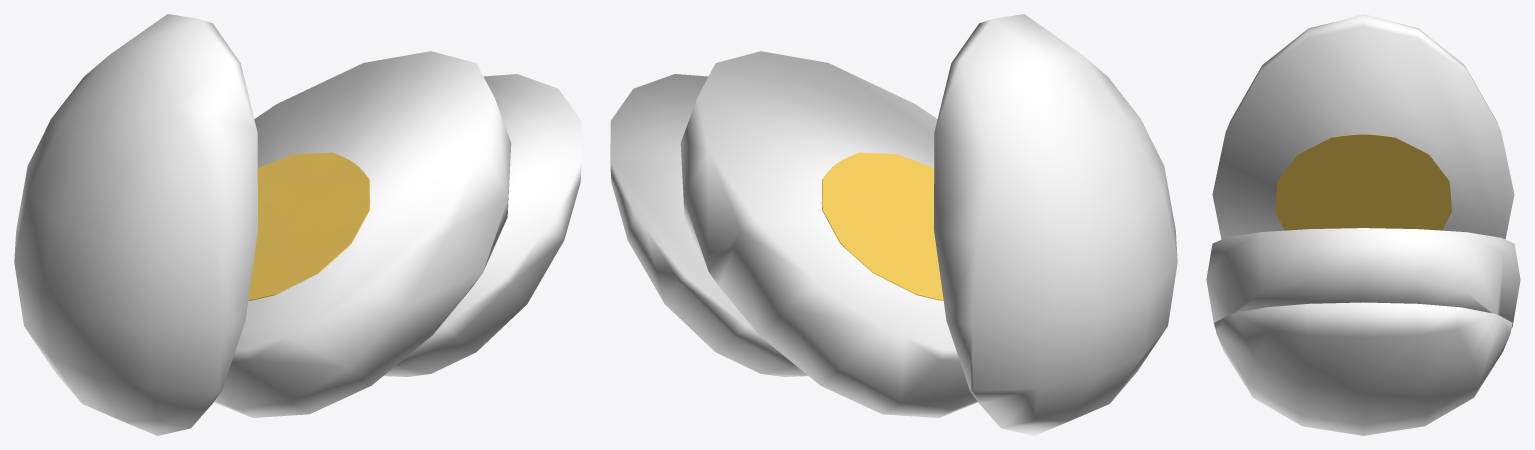
File: EggCut.fbx
3 renders of one model, left to right at view 1: azimuth 30°, elevation 25°; view 2: azimuth 150°, elevation 25°; view 3: azimuth 270°, elevation 25°, orthographic. The views are drawn at different scales.
Parts seen in each view (by area): view 1: EggCut; view 2: EggCut; view 3: EggCut.
Part boxes in pixels (<box>): EggCut: <box>14,14,581,435</box>; EggCut: <box>610,14,1177,435</box>; EggCut: <box>1206,14,1520,435</box>.
Size of the model in its own units: 6.04 by 4.29 by 3.66.
